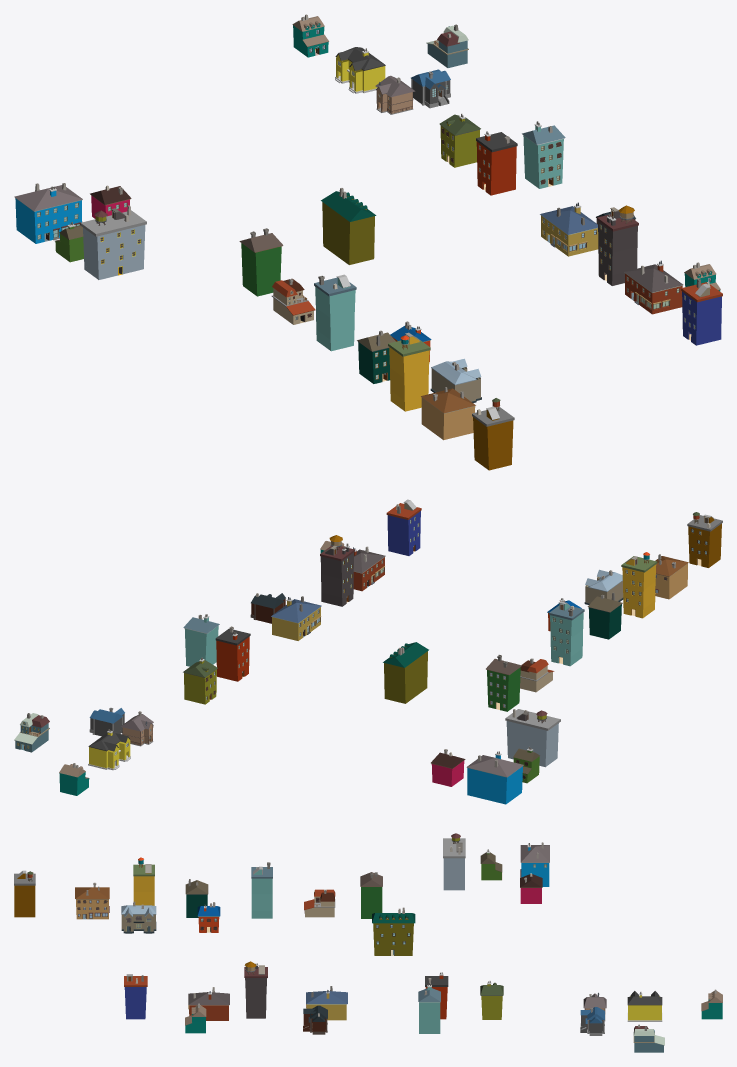
The model's file is Houses.fbx.
The picture shows the model from 3 angles, top to bottom: view 1: azimuth 30°, elevation 25°; view 2: azimuth 150°, elevation 25°; view 3: azimuth 270°, elevation 25°; orthographic projection. The views are drawn at different scales.
Parts seen in each view (by area): view 1: House_Background02, House_Background01, House12, House_Background05.002, House_Background03, House_Background04.001, House_Background08, House16, House_Background06, House_Background07, House13, House15.001 (+13 smaller); view 2: House_Background02, House12, House_Background01, House_Background03, House_Background04.001, House_Background05.002, House_Background06, House_Background08, House13, House_Background07, House15.001, House16 (+14 smaller); view 3: House_Background01, House_Background02, House_Background03, House_Background05.002, House11, House12, House16, House_Background08, House10, House09, House_Background06, House14 (+15 smaller).
Boxes of the visible parts, x1,y1,x2,y2 form: House_Background02: [80, 205, 146, 279]; House_Background01: [321, 188, 376, 264]; House12: [14, 183, 82, 243]; House_Background05.002: [314, 274, 356, 351]; House_Background03: [597, 205, 638, 285]; House_Background04.001: [388, 332, 430, 411]; House_Background08: [472, 398, 514, 470]; House16: [522, 121, 565, 188]; House_Background06: [681, 279, 722, 345]; House_Background07: [476, 131, 517, 195]; House13: [540, 202, 598, 256]; House15.001: [239, 228, 283, 296]; House_Background02: [505, 709, 560, 767]; House12: [466, 751, 523, 804]; House_Background01: [383, 642, 428, 703]; House_Background03: [320, 535, 354, 606]; House_Background04.001: [621, 552, 657, 618]; House_Background05.002: [549, 601, 584, 666]; House_Background06: [386, 499, 421, 555]; House_Background08: [687, 512, 722, 567]; House13: [271, 596, 321, 640]; House_Background07: [215, 626, 250, 681]; House15.001: [486, 654, 521, 711]; House16: [183, 614, 219, 666]; House_Background01: [372, 907, 415, 955]; House_Background02: [443, 833, 465, 890]; House_Background03: [244, 961, 267, 1018]; House_Background05.002: [251, 862, 272, 918]; House11: [75, 882, 109, 919]; House12: [520, 842, 549, 886]; House16: [418, 983, 440, 1033]; House_Background08: [14, 870, 35, 917]; House10: [121, 901, 156, 933]; House09: [627, 991, 662, 1021]; House_Background06: [124, 974, 147, 1019]; House14: [188, 987, 229, 1020].
Size of the model in its own units: 11698 by 1628 by 19114.
